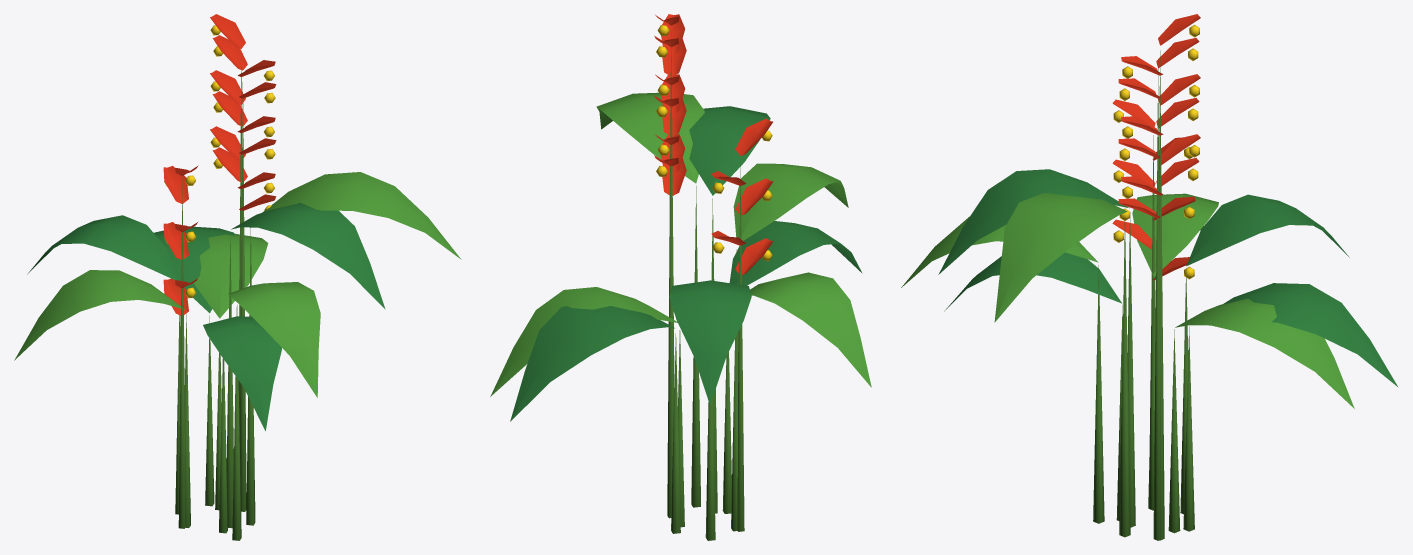
The model's file is plant_heliconia-a.glb.
The picture shows the model from 3 angles, left to right: view 1: azimuth 30°, elevation 25°; view 2: azimuth 150°, elevation 25°; view 3: azimuth 270°, elevation 25°; orthographic projection. The views are drawn at different scales.
Parts seen in each view (by area): view 1: plant_heliconia-a; view 2: plant_heliconia-a; view 3: plant_heliconia-a.
Part boxes in pixels (x1,y1,x2,y2): plant_heliconia-a: (14,14,461,540); plant_heliconia-a: (490,14,871,540); plant_heliconia-a: (901,14,1398,540).
Bounding box in the file's own units: 0.6835 × 0.9 × 0.7862.
